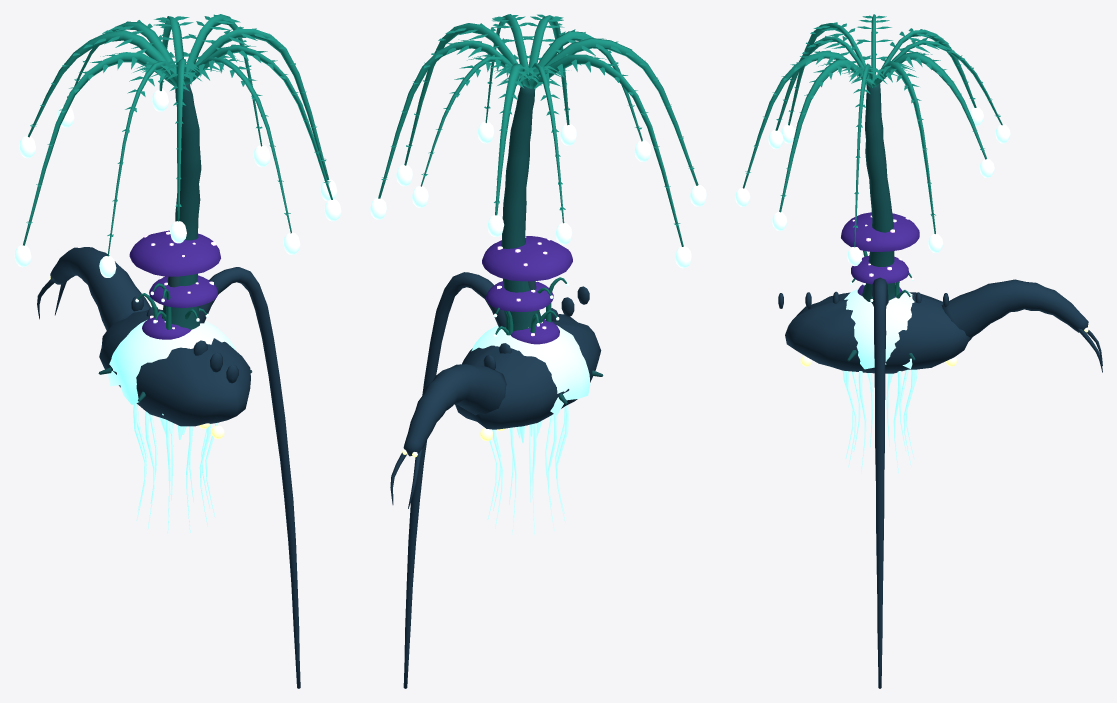
Rendered from valley_life.glb.
3 views of the same model, side by side, from view 1: azimuth 30°, elevation 25°; view 2: azimuth 150°, elevation 25°; view 3: azimuth 270°, elevation 25° (orthographic). The views are drawn at different scales.
Parts seen in each view (by area): view 1: FrondLeaf, StriderBody, Drifter, CapHead, StriderLeg, FrondTrunk, FrondGlow, CurlBlade; view 2: FrondLeaf, StriderBody, Drifter, CapHead, FrondTrunk, StriderLeg, FrondGlow, CurlBlade; view 3: StriderBody, FrondLeaf, Drifter, StriderLeg, FrondTrunk, CapHead, FrondGlow.
Boxes of the visible parts, box(x1,y1,x2,y2) form: FrondLeaf: box(23, 14, 332, 256); StriderBody: box(37, 247, 250, 426); Drifter: box(108, 320, 236, 533); CapHead: box(129, 230, 220, 339); StriderLeg: box(199, 267, 300, 688); FrondTrunk: box(98, 83, 252, 401); FrondGlow: box(14, 89, 341, 277); CurlBlade: box(137, 283, 206, 329); FrondLeaf: box(378, 14, 698, 246); StriderBody: box(390, 286, 601, 508); Drifter: box(471, 325, 590, 535); CapHead: box(482, 236, 572, 344); FrondTrunk: box(501, 85, 603, 404); StriderLeg: box(403, 272, 505, 688); FrondGlow: box(370, 121, 706, 268); CurlBlade: box(495, 277, 566, 335); StriderBody: box(778, 279, 1102, 373); FrondLeaf: box(742, 14, 1002, 247); Drifter: box(842, 288, 917, 473); StriderLeg: box(871, 277, 888, 688); FrondTrunk: box(847, 84, 915, 361); CapHead: box(841, 212, 919, 297); FrondGlow: box(735, 106, 1010, 266).
Size of the model in its own units: 5.64 by 11.91 by 6.69.
